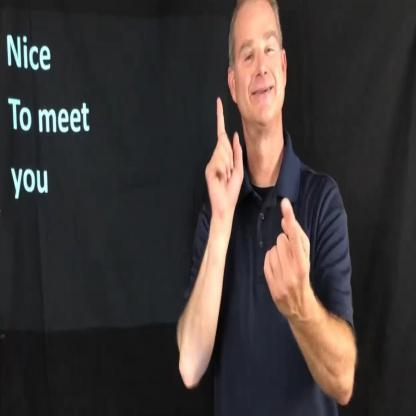NiceToMeetYou: (193, 89, 314, 324)
